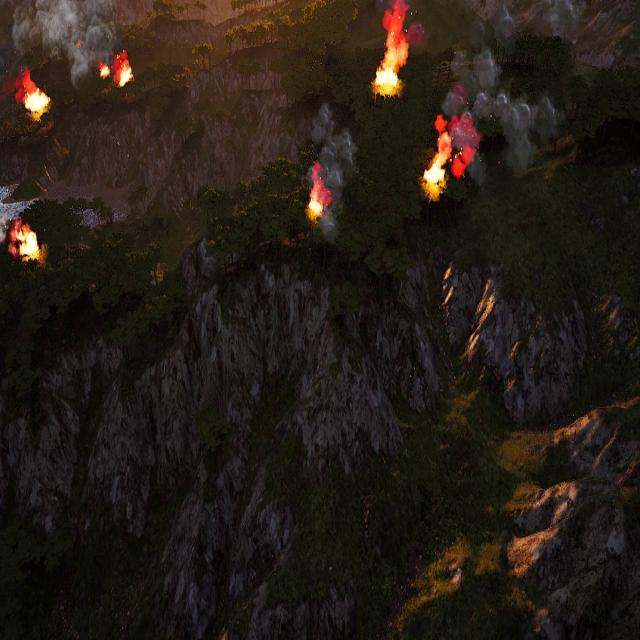fire: (372, 4, 415, 98), (13, 222, 40, 260), (422, 157, 447, 194), (24, 83, 50, 118), (308, 184, 330, 220), (116, 61, 132, 86), (99, 62, 111, 80)
smoke: (434, 46, 558, 186), (29, 0, 121, 83), (313, 101, 357, 242), (0, 188, 17, 258)
